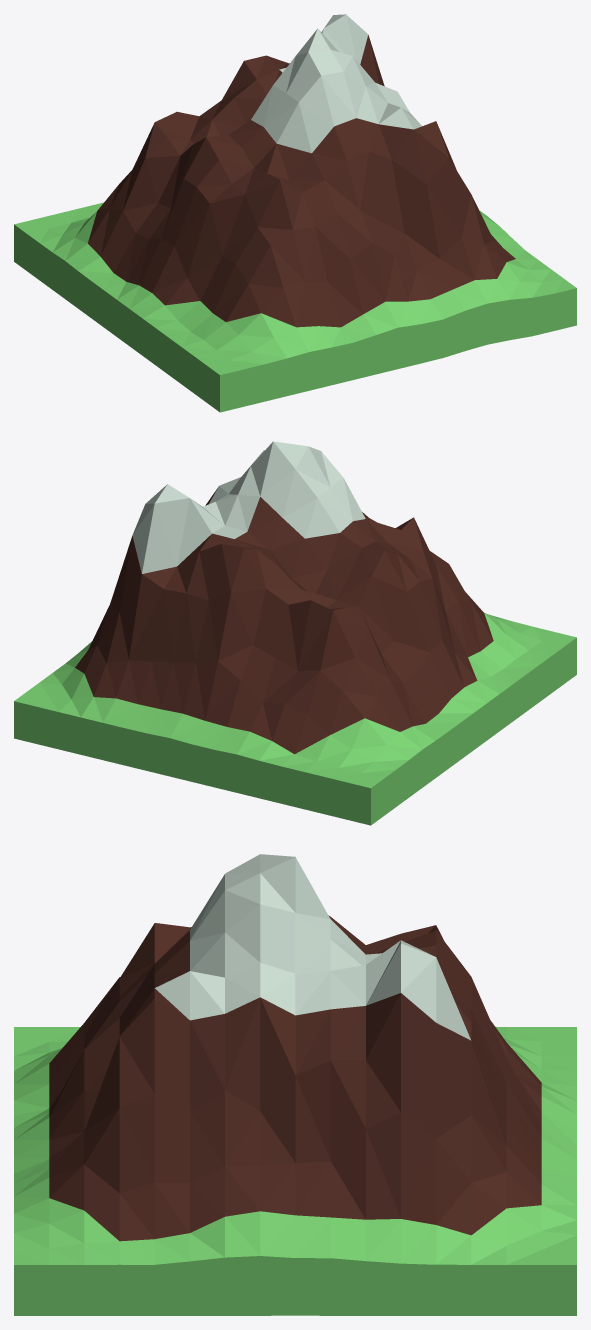
Rendered from mountains_2.fbx.
The picture shows the model from 3 angles, top to bottom: view 1: azimuth 30°, elevation 25°; view 2: azimuth 150°, elevation 25°; view 3: azimuth 270°, elevation 25°; orthographic projection. The views are drawn at different scales.
Parts seen in each view (by area): view 1: Plane; view 2: Plane; view 3: Plane.
Boxes of the visible parts, x1=… form: Plane: x1=14, y1=14, x2=576, y2=412; Plane: x1=14, y1=441, x2=576, y2=825; Plane: x1=14, y1=854, x2=576, y2=1315.
Bounding box in the file's own units: 2000 × 1391 × 2000.
